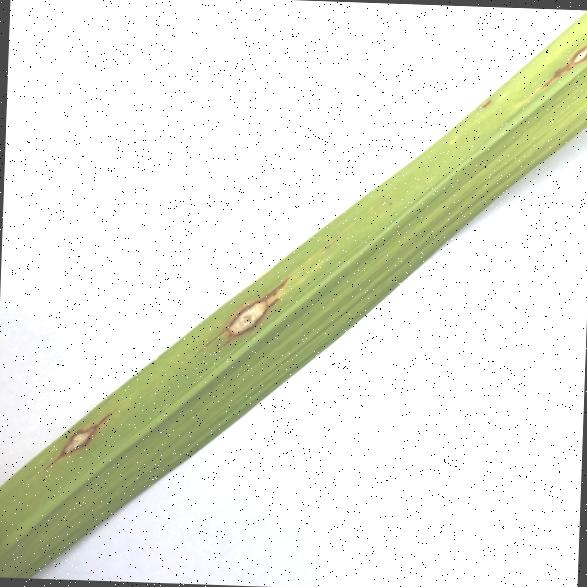Leaf_smut: (193, 234, 294, 358), (30, 382, 133, 484), (536, 19, 587, 93)
